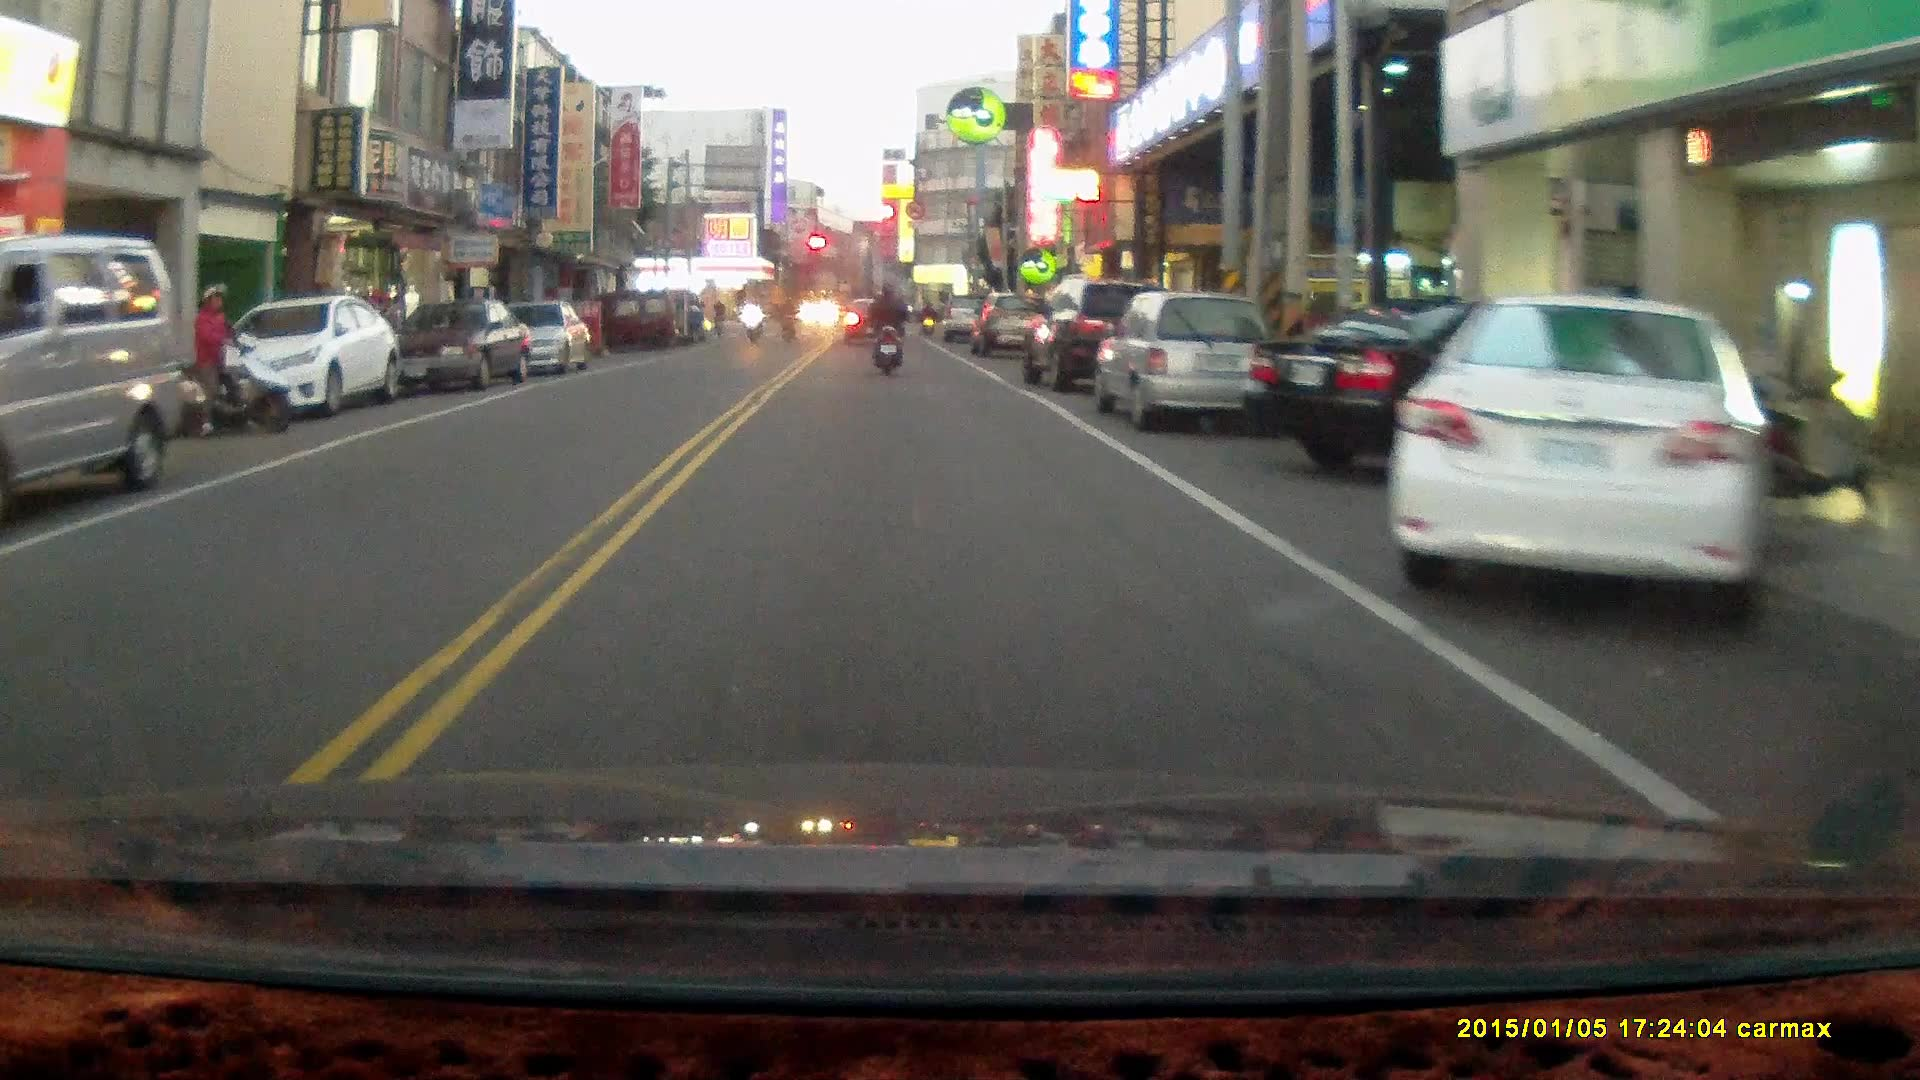rider: (169, 278, 289, 438), (863, 279, 906, 380), (738, 294, 763, 343)
vehicle: (1385, 291, 1789, 617), (1249, 297, 1711, 487), (1, 237, 181, 507), (1096, 291, 1286, 428), (205, 292, 397, 419), (1018, 278, 1172, 395), (376, 299, 537, 394), (472, 298, 588, 378)
